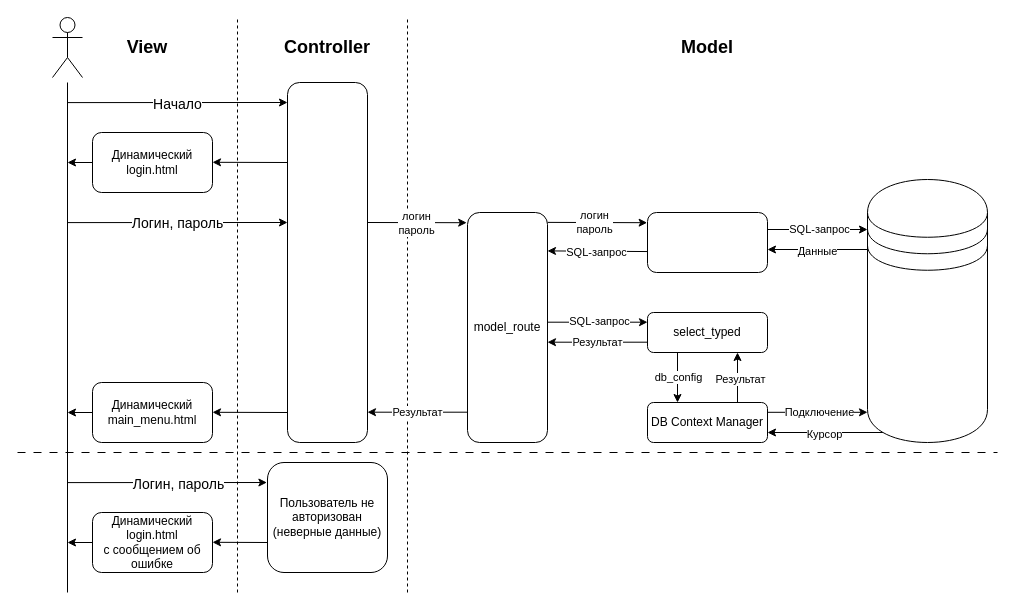
The diagram is 1016 pixels wide and 611 high, and some of its shapes have lost their labels. The box of each missing label's shape, as (x1, y1, x2, y2) in pixels:
route: (286, 82, 368, 442)
SQL Provider: (646, 212, 768, 272)
База данных: (866, 178, 988, 442)
